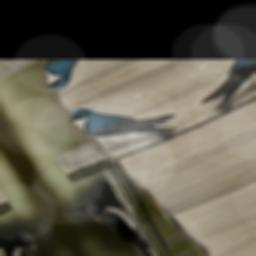Swallow: (62, 75, 185, 169)
